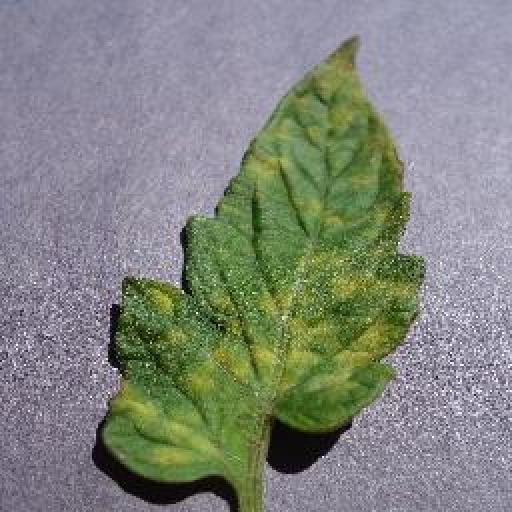disease_tomato: (98, 32, 429, 487)
